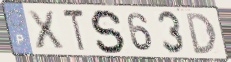3: (156, 10, 187, 56)
6: (126, 12, 154, 53)
D: (184, 12, 219, 56)
S: (90, 8, 128, 55)
T: (61, 8, 86, 54)
X: (25, 9, 66, 51)
